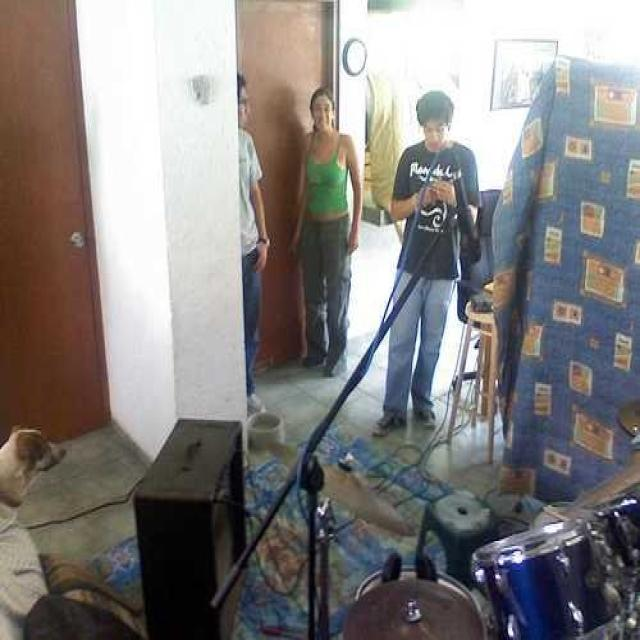microphone: (437, 136, 492, 296)
